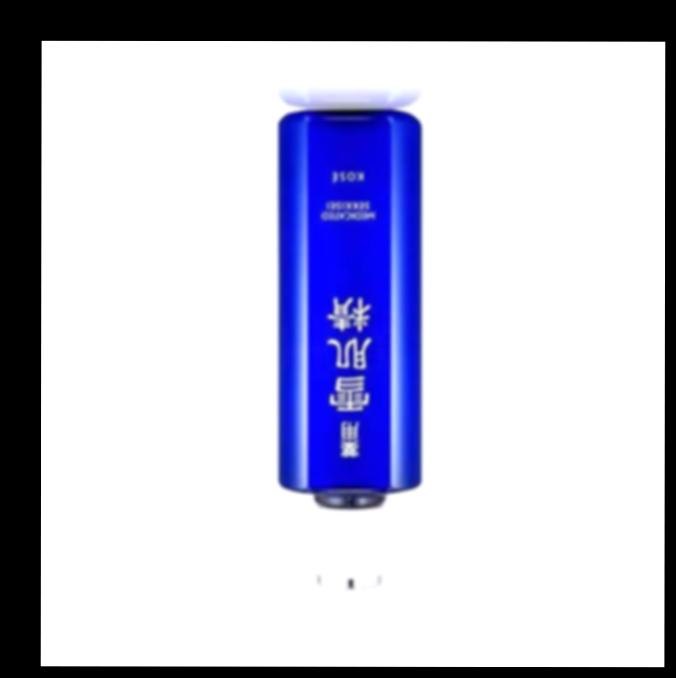cosmetic: (269, 108, 424, 585)
